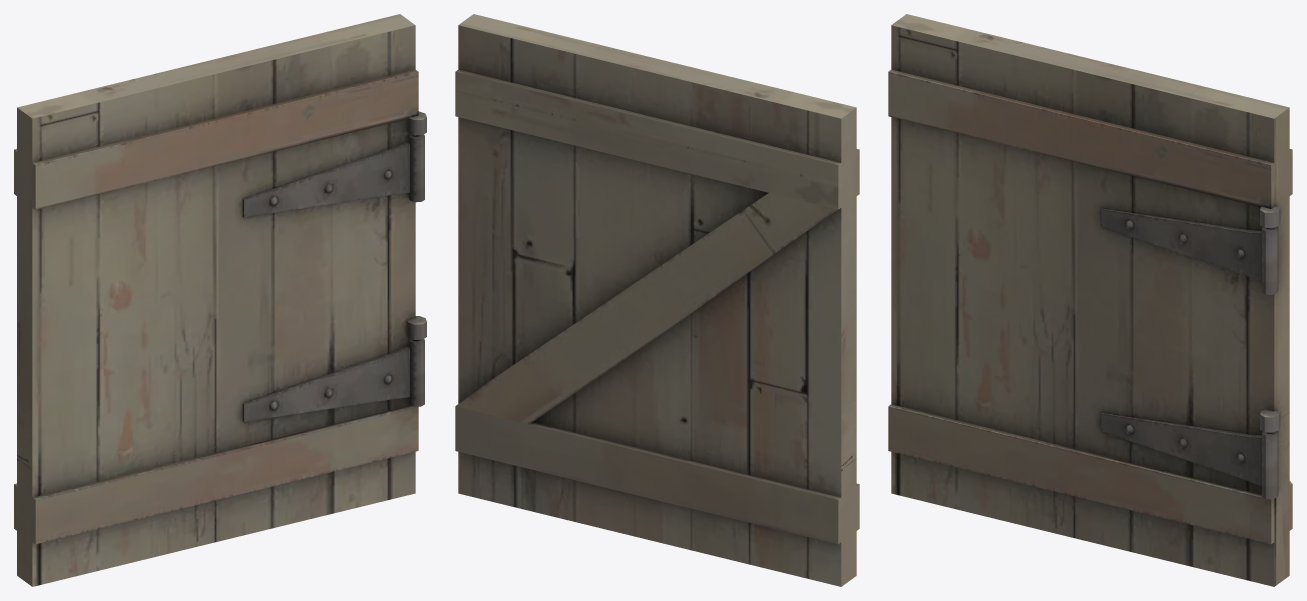
3 views of the same model, side by side, from view 1: azimuth 30°, elevation 25°; view 2: azimuth 150°, elevation 25°; view 3: azimuth 330°, elevation 25° (orthographic).
Visible parts, largest first — view 1: body0_model0_lod0_mesh0; view 2: body0_model0_lod0_mesh0; view 3: body0_model0_lod0_mesh0.
Boxes of the visible parts, box(x1,y1,x2,y2) form: body0_model0_lod0_mesh0: box(14, 14, 426, 586); body0_model0_lod0_mesh0: box(455, 14, 859, 586); body0_model0_lod0_mesh0: box(888, 14, 1292, 586).
Bounding box in the file's own units: 73.37 × 84.1 × 8.71.
Materials: 1 (1 with a texture image).
